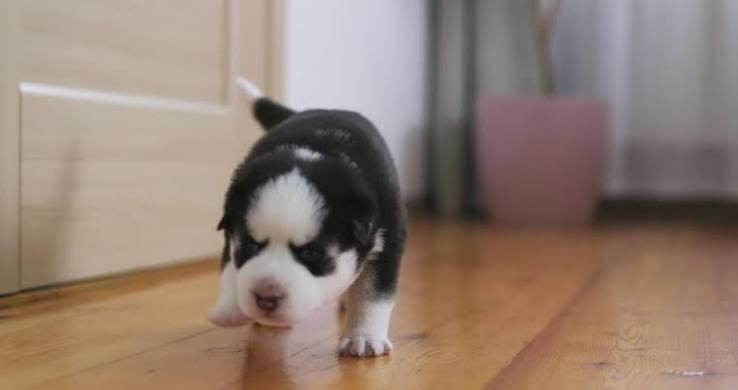puppy-dog: (209, 90, 410, 360)
